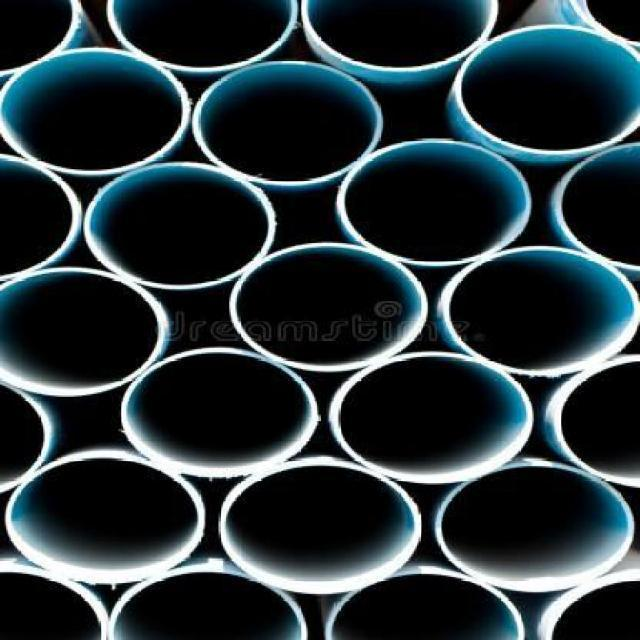pipe: (218, 460, 423, 594), (329, 351, 532, 484), (434, 462, 636, 593), (228, 242, 428, 373), (440, 246, 639, 377), (121, 346, 318, 477), (5, 458, 207, 584), (337, 139, 532, 267), (84, 162, 277, 290), (455, 23, 640, 156), (0, 47, 188, 176), (192, 60, 383, 186), (0, 265, 168, 398), (107, 569, 309, 640), (301, 0, 498, 72), (106, 0, 298, 72), (324, 572, 526, 640), (553, 351, 639, 487), (554, 142, 639, 273), (0, 154, 82, 280), (0, 0, 85, 74)
